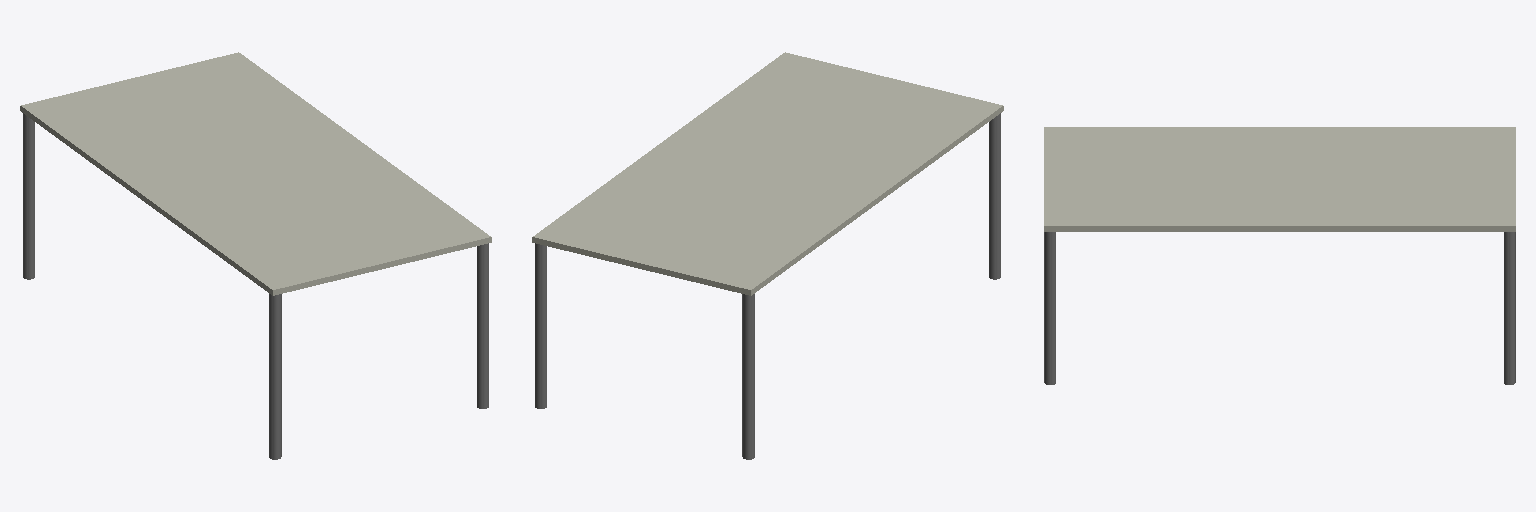
URDF robot description (table):
<?xml version="1.0" encoding="utf-8"?>
<!-- Table with top surface at z = 0.745 m (74.5 cm height). -->
<robot name="table">

  <material name="table_white">
    <color rgba="0.75 0.75 0.7 1.0"/>
  </material>
  <material name="table_gray">
    <color rgba="0.5 0.5 0.5 1.0"/>
  </material>

  <!-- Virtual root -->
  <link name="base_link"/>

  <!-- Table top: 1.0 x 2.0 x 0.025 m, joint places link centre at 0.7325 m
       -> top surface at 0.7325 + 0.0125 = 0.745 m -->
  <joint name="table_top_joint" type="fixed">
    <parent link="base_link"/>
    <child link="table_top_link"/>
    <origin xyz="0 0 0.7325" rpy="0 0 0"/>
  </joint>
  <link name="table_top_link">
    <visual>
      <geometry>
        <box size="1.0 2.0 0.025"/>
      </geometry>
      <material name="table_white"/>
    </visual>
    <collision>
      <geometry>
        <box size="1.0 2.0 0.025"/>
      </geometry>
    </collision>
    <inertial>
      <mass value="5.0"/>
      <inertia ixx="0.1" ixy="0" ixz="0" iyy="0.1" iyz="0" izz="0.1"/>
    </inertial>
  </link>

  <!-- Legs: 0.720 m tall, centred at z = 0.360 m -->
  <joint name="leg_fl_joint" type="fixed">
    <parent link="base_link"/>
    <child link="leg_fl_link"/>
    <origin xyz=" 0.475  0.975 0.360" rpy="0 0 0"/>
  </joint>
  <link name="leg_fl_link">
    <visual>
      <geometry><cylinder length="0.720" radius="0.025"/></geometry>
      <material name="table_gray"/>
    </visual>
    <collision>
      <geometry><cylinder length="0.720" radius="0.025"/></geometry>
    </collision>
    <inertial>
      <mass value="1.0"/>
      <inertia ixx="0.04" ixy="0" ixz="0" iyy="0.04" iyz="0" izz="0.0003"/>
    </inertial>
  </link>

  <joint name="leg_fr_joint" type="fixed">
    <parent link="base_link"/>
    <child link="leg_fr_link"/>
    <origin xyz=" 0.475 -0.975 0.360" rpy="0 0 0"/>
  </joint>
  <link name="leg_fr_link">
    <visual>
      <geometry><cylinder length="0.720" radius="0.025"/></geometry>
      <material name="table_gray"/>
    </visual>
    <collision>
      <geometry><cylinder length="0.720" radius="0.025"/></geometry>
    </collision>
    <inertial>
      <mass value="1.0"/>
      <inertia ixx="0.04" ixy="0" ixz="0" iyy="0.04" iyz="0" izz="0.0003"/>
    </inertial>
  </link>

  <joint name="leg_rl_joint" type="fixed">
    <parent link="base_link"/>
    <child link="leg_rl_link"/>
    <origin xyz="-0.475  0.975 0.360" rpy="0 0 0"/>
  </joint>
  <link name="leg_rl_link">
    <visual>
      <geometry><cylinder length="0.720" radius="0.025"/></geometry>
      <material name="table_gray"/>
    </visual>
    <collision>
      <geometry><cylinder length="0.720" radius="0.025"/></geometry>
    </collision>
    <inertial>
      <mass value="1.0"/>
      <inertia ixx="0.04" ixy="0" ixz="0" iyy="0.04" iyz="0" izz="0.0003"/>
    </inertial>
  </link>

  <joint name="leg_rr_joint" type="fixed">
    <parent link="base_link"/>
    <child link="leg_rr_link"/>
    <origin xyz="-0.475 -0.975 0.360" rpy="0 0 0"/>
  </joint>
  <link name="leg_rr_link">
    <visual>
      <geometry><cylinder length="0.720" radius="0.025"/></geometry>
      <material name="table_gray"/>
    </visual>
    <collision>
      <geometry><cylinder length="0.720" radius="0.025"/></geometry>
    </collision>
    <inertial>
      <mass value="1.0"/>
      <inertia ixx="0.04" ixy="0" ixz="0" iyy="0.04" iyz="0" izz="0.0003"/>
    </inertial>
  </link>

</robot>

--- What the picture shows (computed from the rendered views, not written in the file) ---
3 views of the same robot in one strip: view 1: azimuth 30°, elevation 25°; view 2: azimuth 150°, elevation 25°; view 3: azimuth 270°, elevation 25° (orthographic).
Robot: table — 6 links, 5 joints (5 fixed); root link base_link; default pose: all joints at 0.
Links seen in each view (by area): view 1: table_top_link, leg_rr_link, leg_fr_link, leg_rl_link; view 2: table_top_link, leg_rl_link, leg_fl_link, leg_rr_link; view 3: table_top_link, leg_fl_link, leg_fr_link.
Link boxes in pixels (x1,y1,x2,y2): table_top_link: [20, 52, 491, 295]; leg_rr_link: [269, 294, 281, 459]; leg_fr_link: [477, 243, 488, 408]; leg_rl_link: [23, 113, 34, 279]; table_top_link: [532, 52, 1003, 295]; leg_rl_link: [742, 294, 754, 459]; leg_fl_link: [535, 243, 546, 408]; leg_rr_link: [989, 113, 1000, 279]; table_top_link: [1044, 127, 1515, 231]; leg_fl_link: [1504, 232, 1515, 384]; leg_fr_link: [1044, 232, 1055, 384].
Bounding box of the posed robot: 1 × 2 × 0.745 m (x, y, z).
Geometry: primitives only (box / cylinder / sphere), no mesh files.
